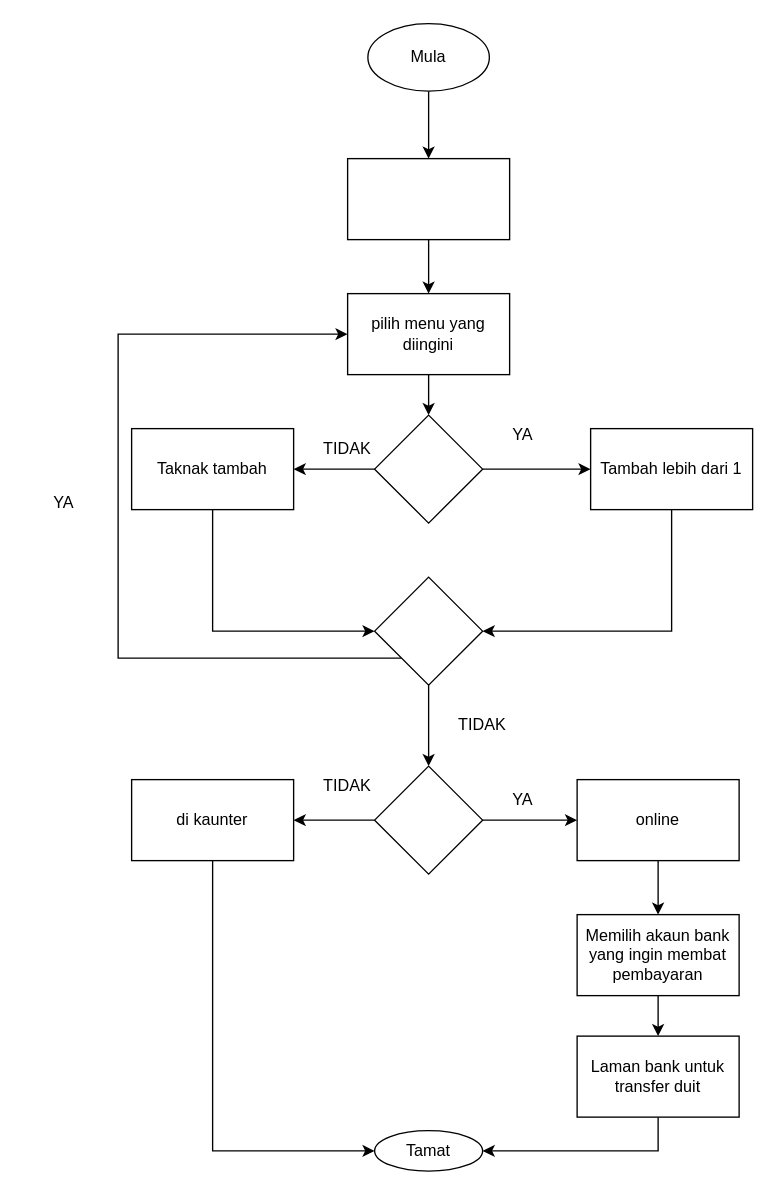
Image size: 776x1195. Some labels were removed from this diagram. Each missing label, with the centre of its shape:
Jika ingin menambah menu: point 428,630
Jika nak tambah lebih dari 1: point 428,468
Login nama dan no telefon: point 428,198
Membuat bayaran: point 428,819
